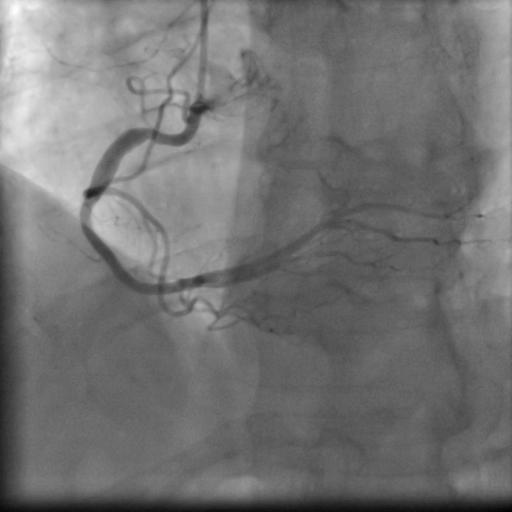Stenosis: (79, 202, 94, 223)
